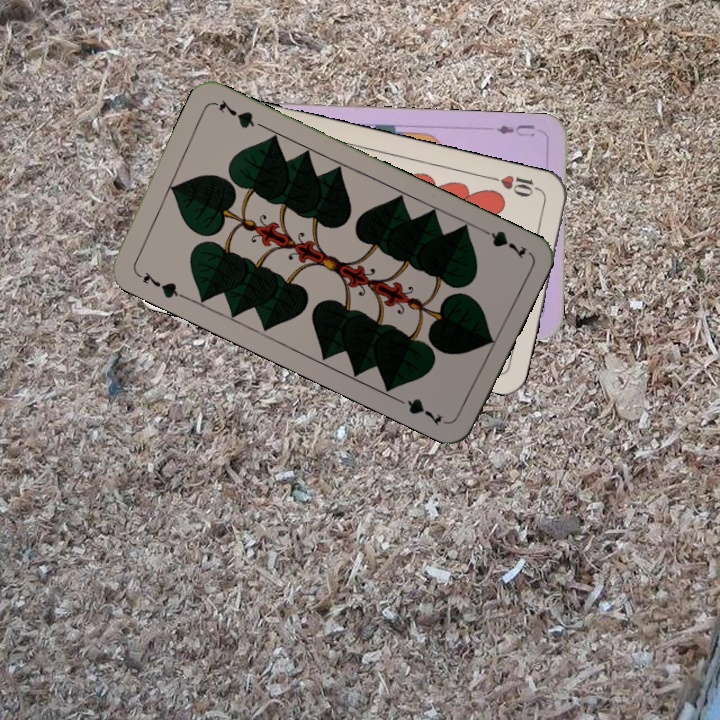EU: (493, 120, 538, 140)
G7: (475, 223, 530, 261), (131, 266, 187, 301)
H10: (486, 170, 545, 200)
